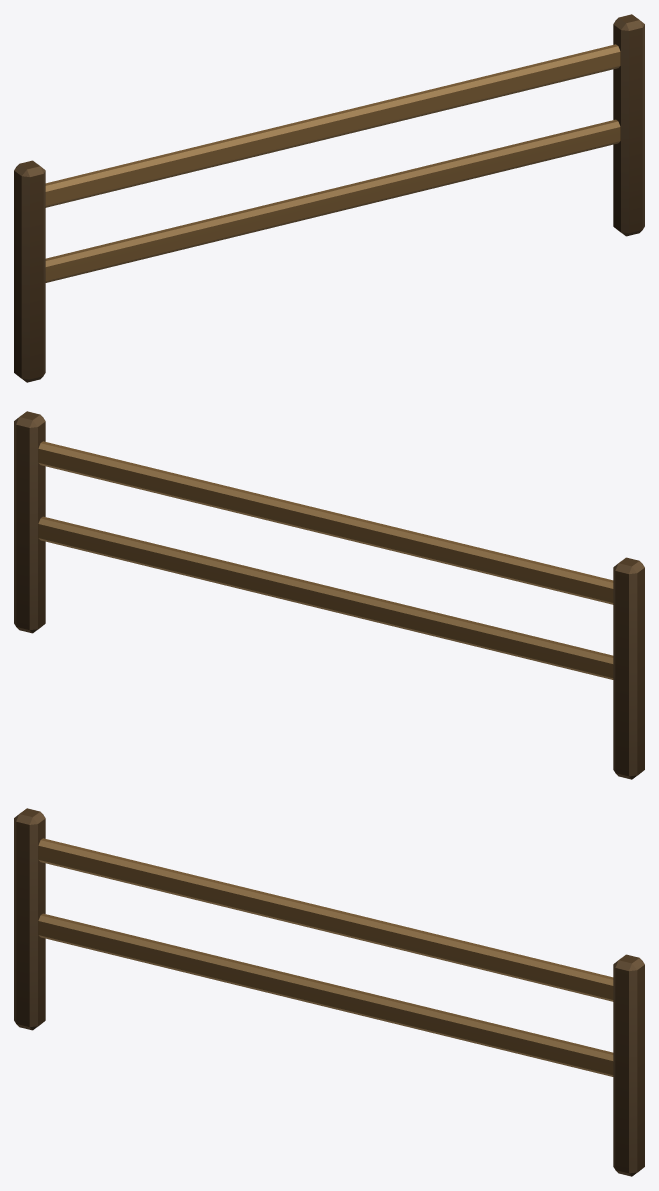
The model's file is fence-v1.glb.
The picture shows the model from 3 angles, top to bottom: view 1: azimuth 30°, elevation 25°; view 2: azimuth 150°, elevation 25°; view 3: azimuth 330°, elevation 25°; orthographic projection.
Visible parts, largest first — view 1: fence-v1.lod0; view 2: fence-v1.lod0; view 3: fence-v1.lod0.
Part boxes in pixels (<box>): fence-v1.lod0: <box>14,14,644,382</box>; fence-v1.lod0: <box>14,411,644,779</box>; fence-v1.lod0: <box>14,808,644,1176</box>.
Bounding box in the file's own units: 4.16 × 1.36 × 0.16.
